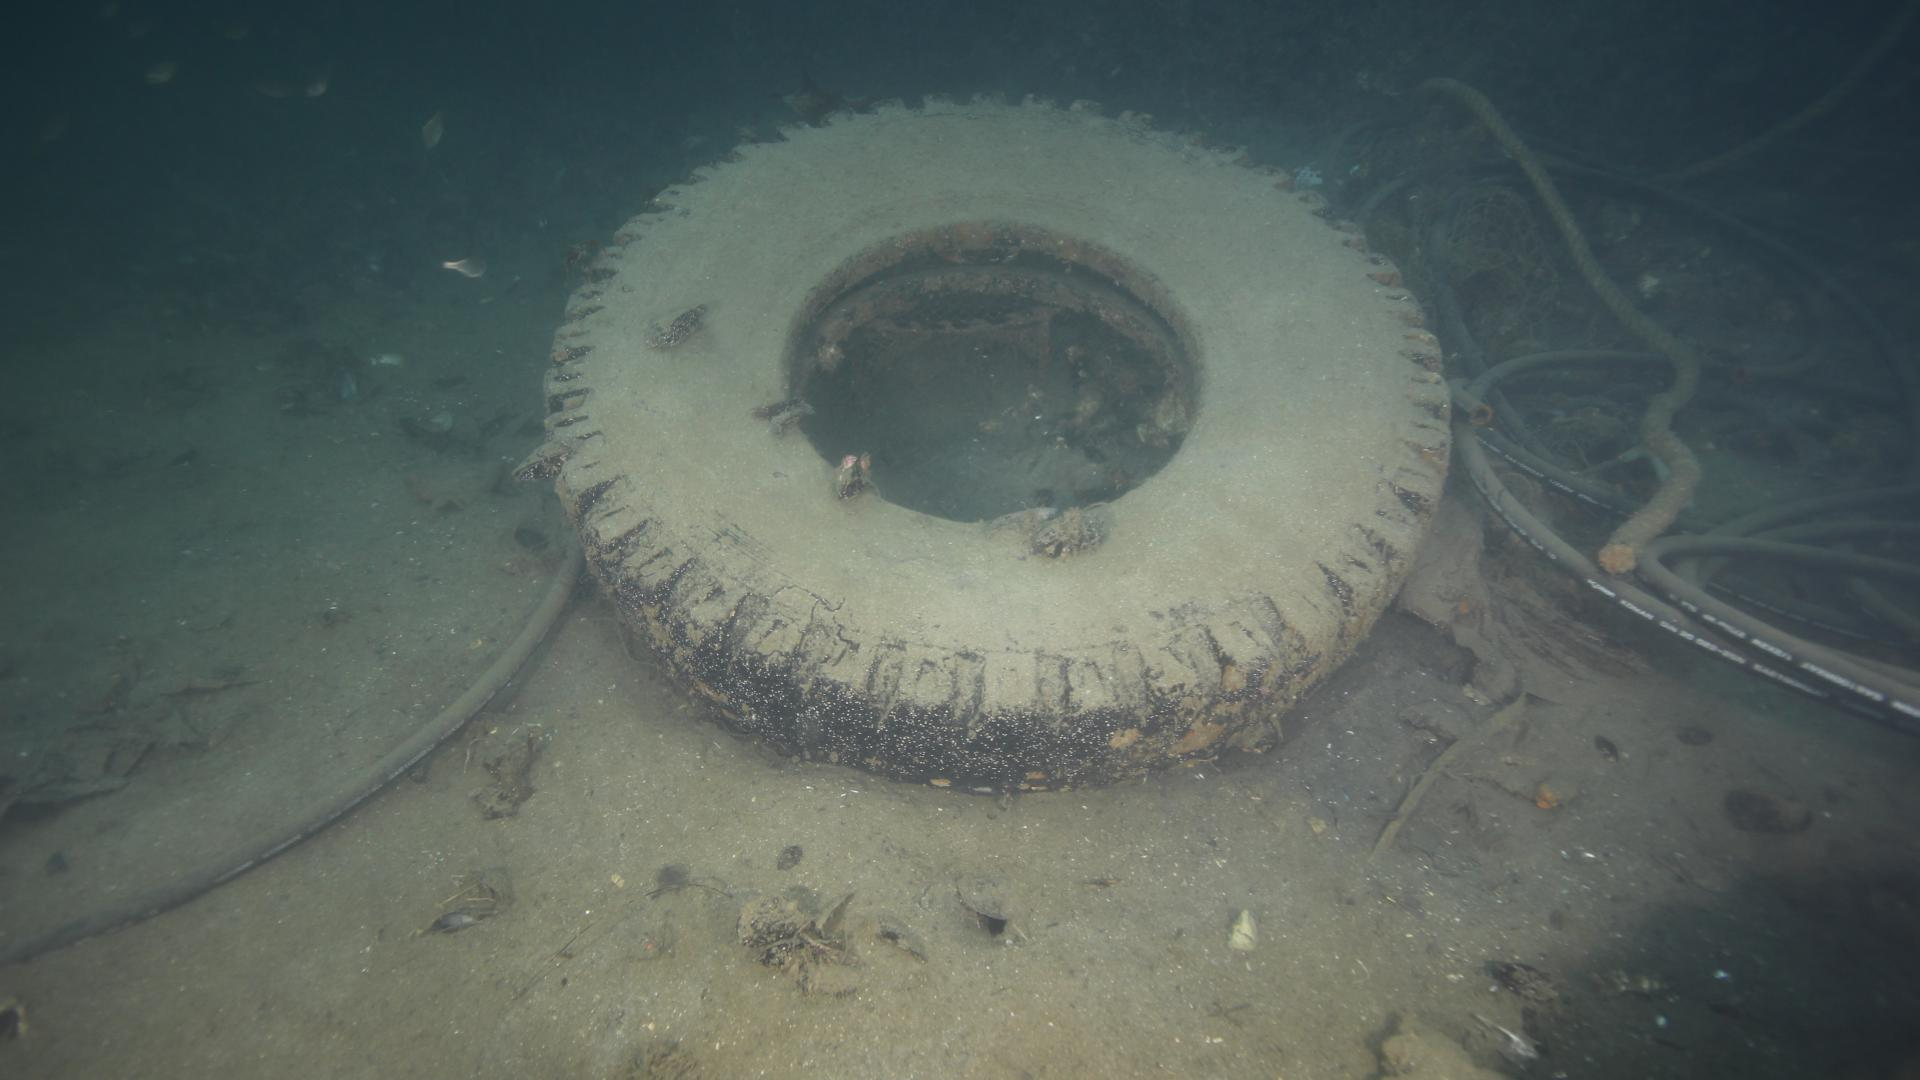rope: (1422, 74, 1702, 538)
tire: (545, 88, 1457, 796)
